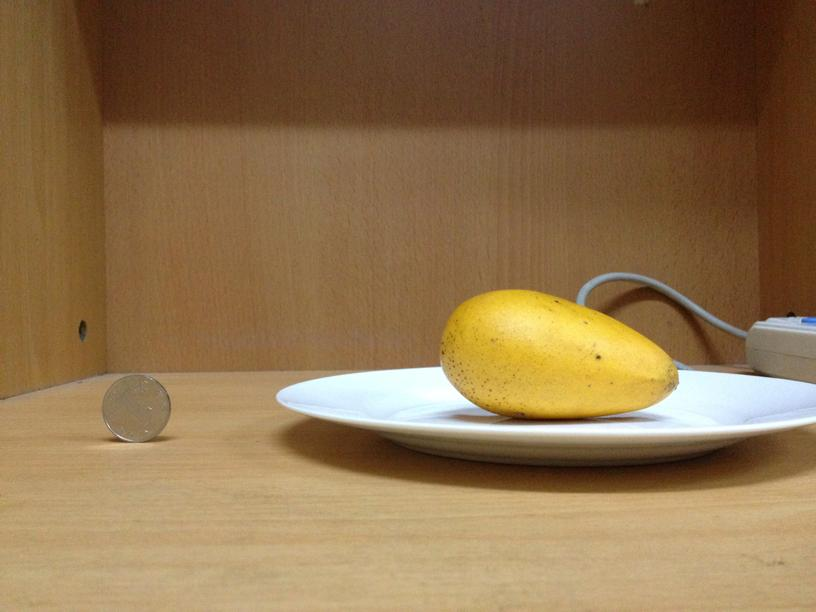coin: (99, 375, 171, 441)
mango: (440, 290, 677, 416)
